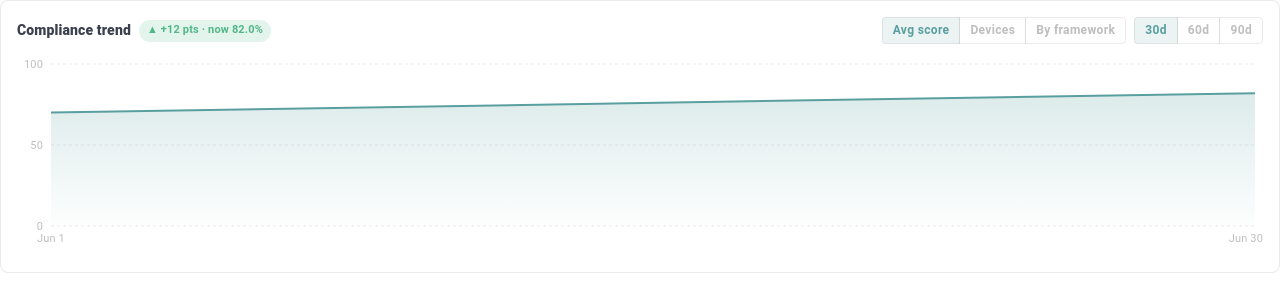
ComplianceTrendChart › shows a per-framework empty state before any data is recorded
Expected: the text "▲ +12 pts · now 82.0%" is shown, [139, 22, 271, 39]
Step 1. Click the button "By framework" → (1076, 30), box [1025, 17, 1126, 44]
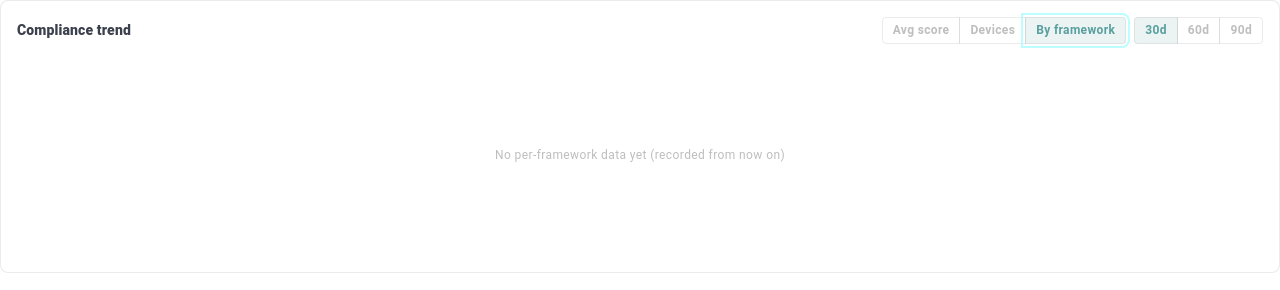
Expected: the text "No per-framework data yet (recorded from now on)" is shown, [495, 146, 785, 166]
